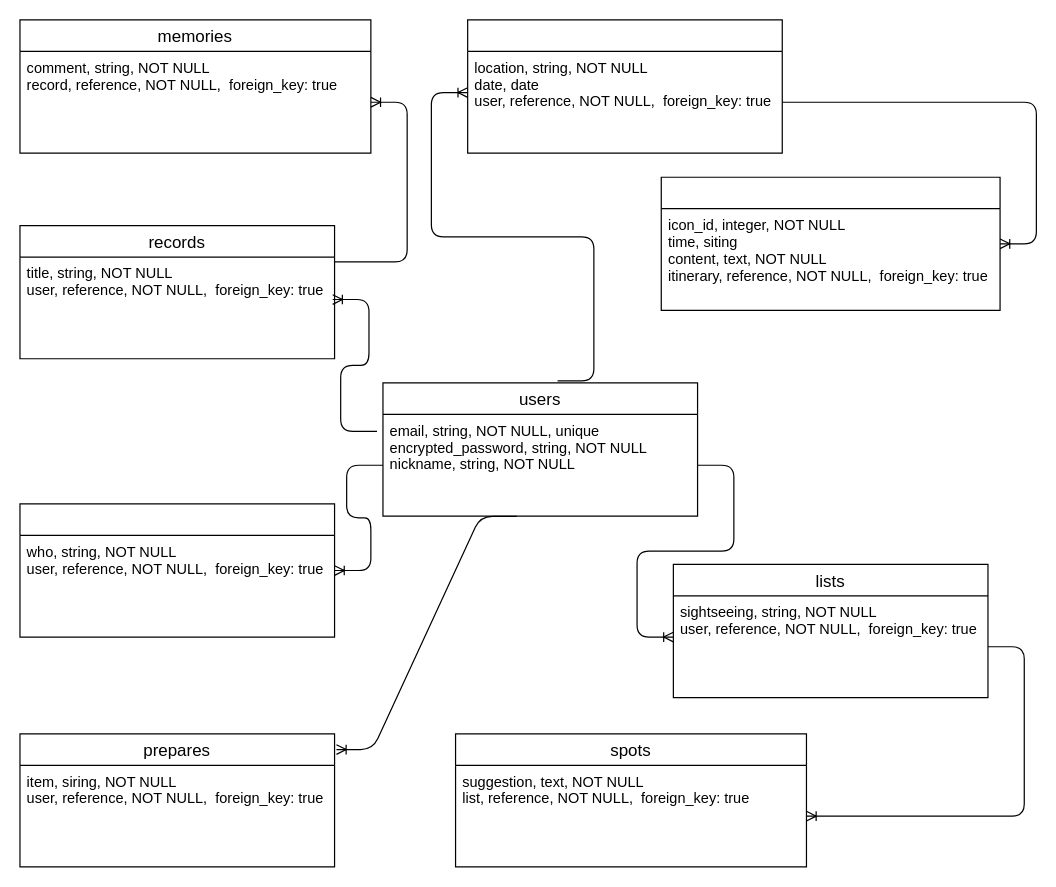
Image size: 1056x887. Some labels were removed from this diagram. Each missing label, with the box of its shape:
itinararies: (466, 19, 782, 153)
plans: (660, 176, 1000, 310)
souvenirs: (19, 503, 335, 637)
